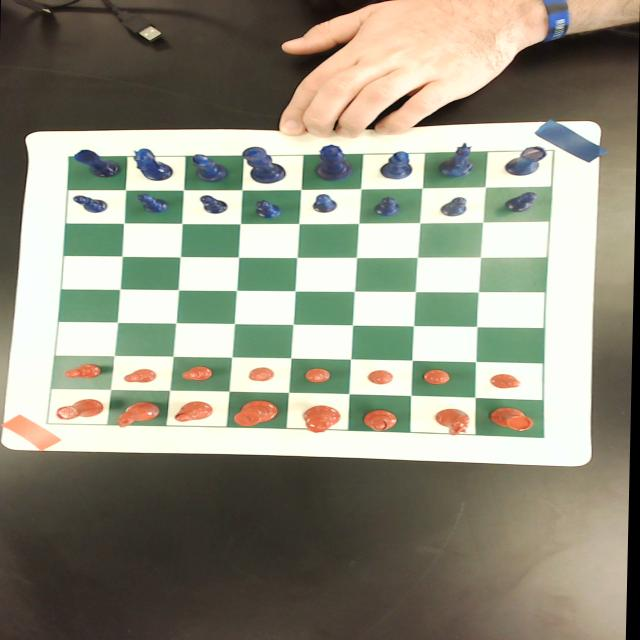B: (192, 154, 228, 182), (378, 152, 413, 180)
K: (241, 147, 287, 183)
N: (439, 140, 476, 178), (131, 148, 172, 182)
P: (505, 191, 539, 213), (136, 193, 170, 214), (71, 195, 108, 213), (439, 197, 468, 217), (372, 196, 400, 216), (254, 199, 282, 219), (199, 195, 227, 215), (312, 194, 338, 214)
Q: (314, 144, 354, 180)
R: (502, 145, 547, 176), (73, 149, 122, 177)
b: (361, 409, 402, 431), (174, 401, 216, 422)
k: (235, 400, 279, 426)
n: (114, 400, 163, 429), (434, 408, 471, 436)
p: (64, 364, 103, 379), (180, 366, 215, 381), (123, 368, 157, 383), (422, 370, 452, 386), (490, 374, 522, 388), (304, 368, 333, 383), (366, 370, 395, 385), (249, 368, 275, 382)
q: (302, 406, 342, 434)
r: (488, 407, 536, 432), (55, 398, 105, 421)
